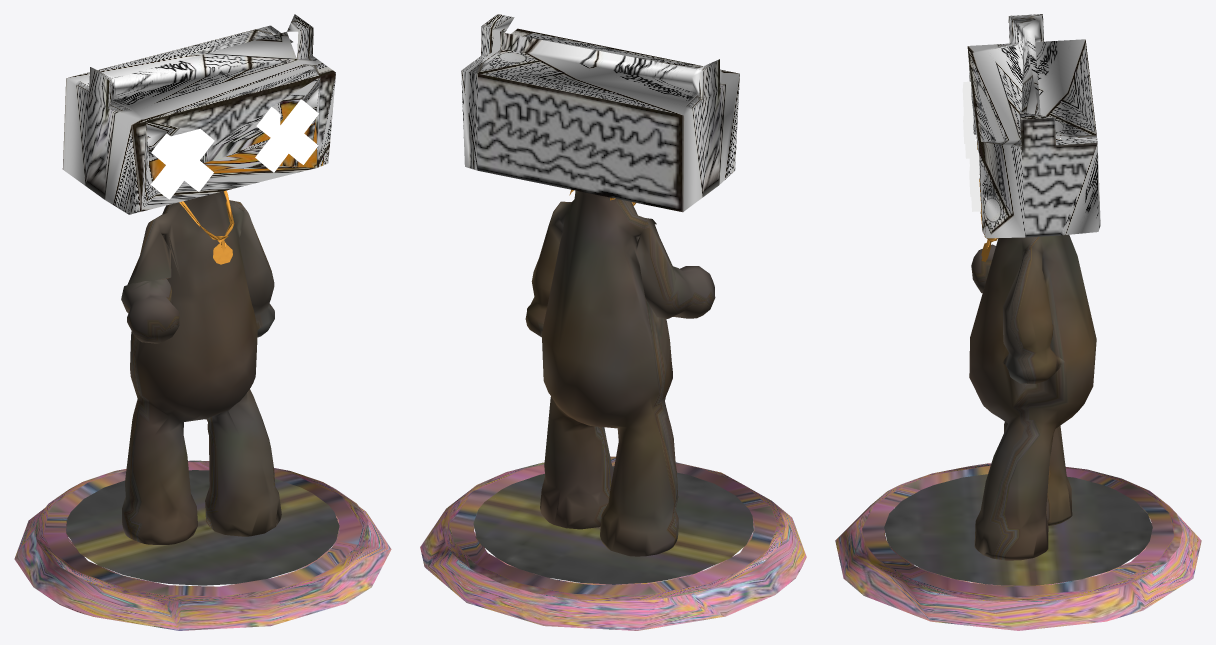
3 renders of one model, left to right at view 1: azimuth 30°, elevation 25°; view 2: azimuth 150°, elevation 25°; view 3: azimuth 270°, elevation 25°, orthographic. The views are drawn at different scales.
Bounding box in the file's own units: 1.45 × 2.12 × 1.43.
6 materials, 5 textured.
